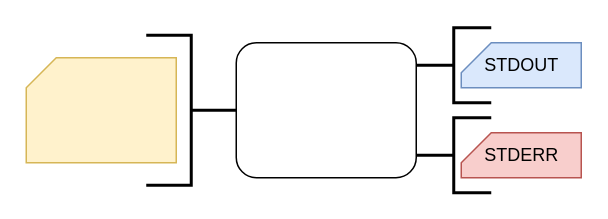
Some shapes in this 608 by 219 pixel diagram are drawn without their labels. The shapes that lost their labels are listed below. From the top down, each one's box as (x1, y1, x2, y2) in pixels, then its label:
(25, 56, 176, 163): STDIN
(235, 41, 416, 178): Программа 1
